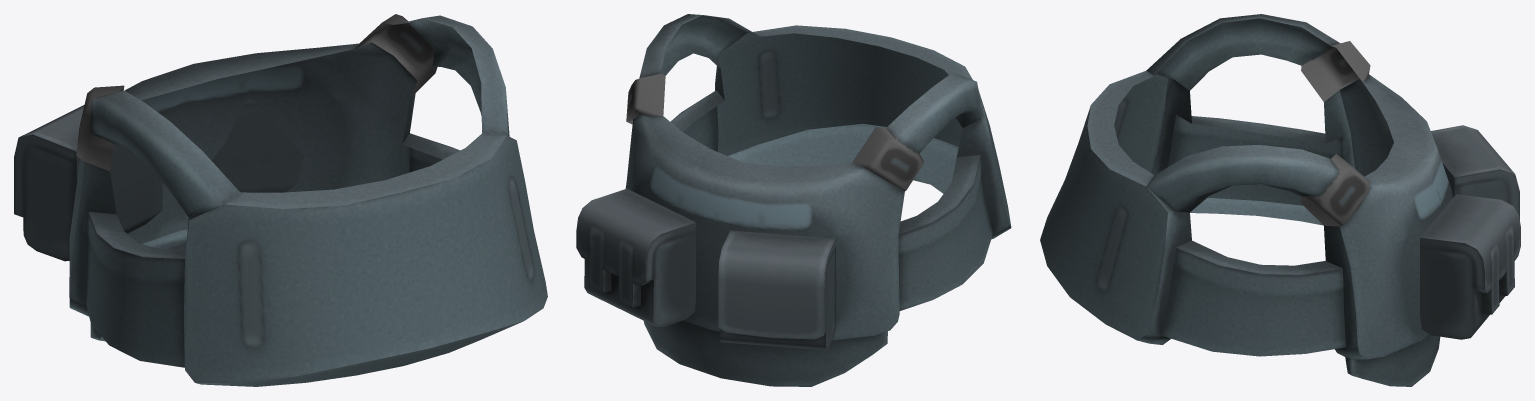
The model's file is IG_Armor_LV4.fbx.
3 views of the same model, side by side, from view 1: azimuth 30°, elevation 25°; view 2: azimuth 150°, elevation 25°; view 3: azimuth 270°, elevation 25° (orthographic). The views are drawn at different scales.
Visible parts, largest first — view 1: polySurface1861_1; view 2: polySurface1861_1; view 3: polySurface1861_1.
Boxes of the visible parts, x1,y1,x2,y2 form: polySurface1861_1: [14, 14, 547, 386]; polySurface1861_1: [576, 14, 1011, 386]; polySurface1861_1: [1040, 14, 1520, 386].
Size of the model in its own units: 0.5806 by 0.4663 by 0.7587.
